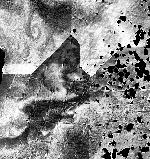CE: (22, 12, 48, 40)
